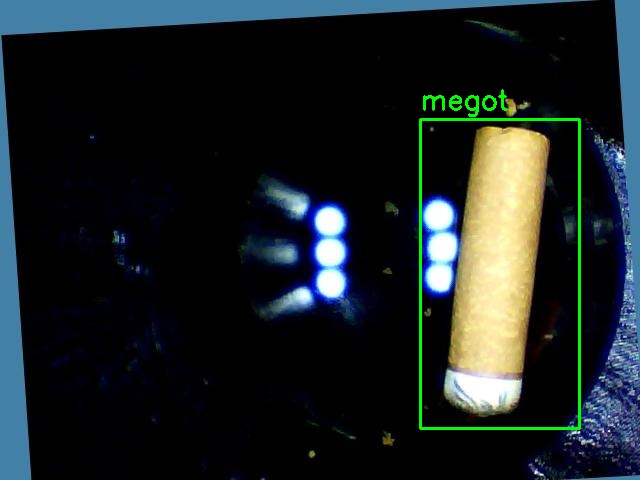megot: (420, 119, 579, 428)
